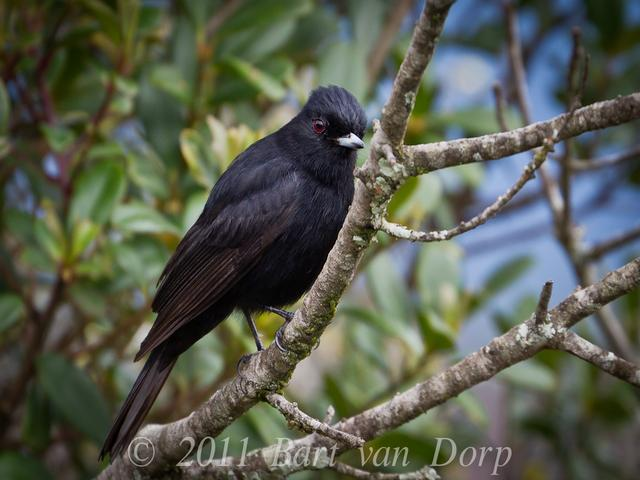bird: (137, 69, 384, 437)
